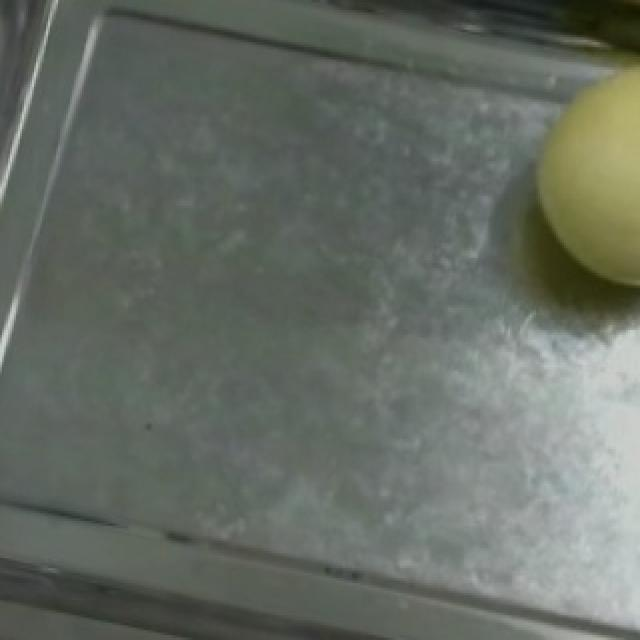Fruit: (506, 35, 640, 308)
